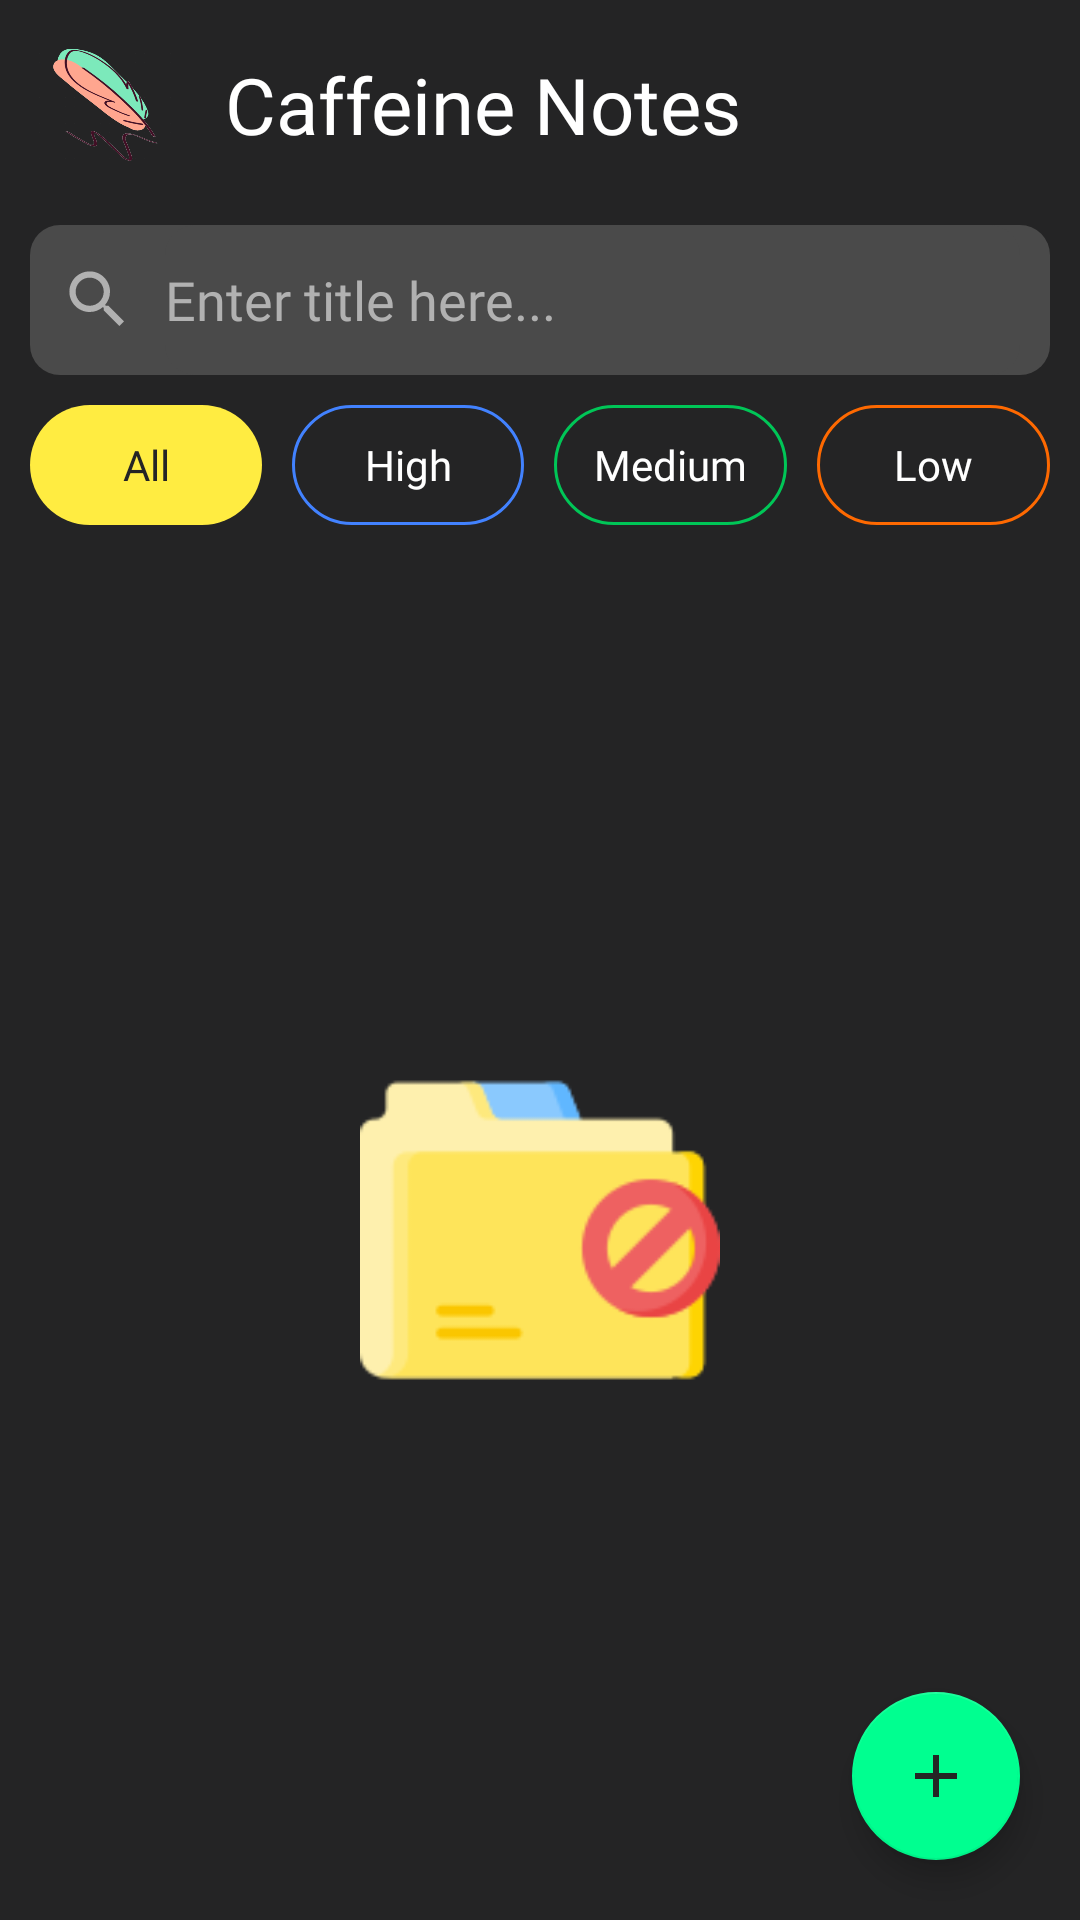

Screen size 1080px×1920px. Icon name, then its box in pixels as BBox(x1, y1, x2, y2):
add: BBox(852, 1692, 1020, 1860)
no data: BBox(360, 1080, 720, 1380)
search: BBox(69, 271, 124, 326)
